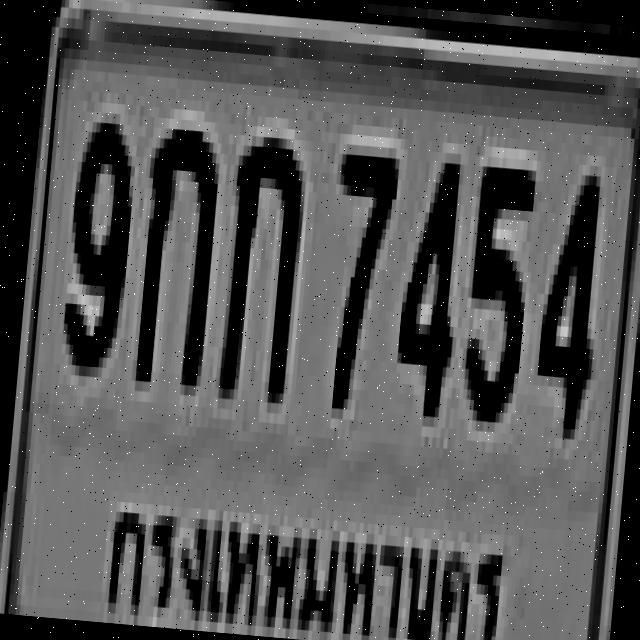10GorGai: (213, 124, 304, 393), (131, 117, 219, 386)
4: (529, 162, 605, 430), (390, 149, 464, 407)
5: (458, 155, 533, 413)
7: (318, 143, 397, 401)
9: (56, 110, 135, 368)
Bangkok: (87, 468, 522, 640)
